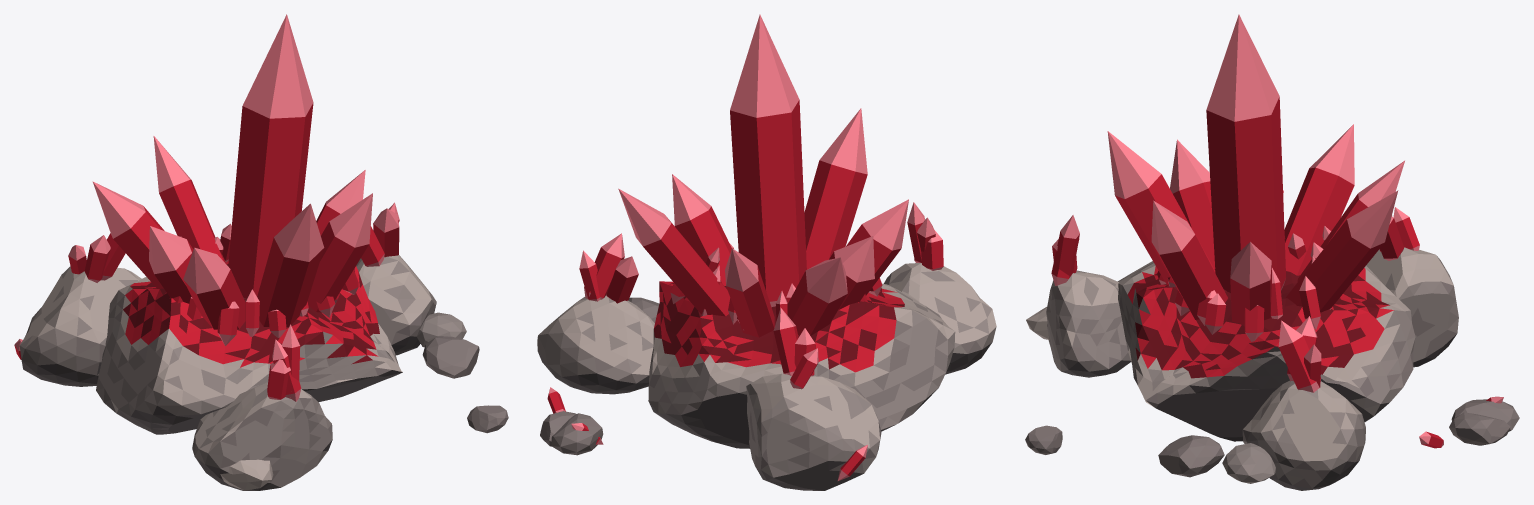
The model's file is Crystal_Corundum.obj.
3 views of the same model, side by side, from view 1: azimuth 30°, elevation 25°; view 2: azimuth 150°, elevation 25°; view 3: azimuth 270°, elevation 25° (orthographic). The views are drawn at different scales.
Parts seen in each view (by area): view 1: Crystal_Corundum; view 2: Crystal_Corundum; view 3: Crystal_Corundum.
Part boxes in pixels (x1,y1,x2,y2): Crystal_Corundum: (14,14,508,490); Crystal_Corundum: (537,14,996,490); Crystal_Corundum: (1025,14,1519,490).
Size of the model in its own units: 1.22 by 1.22 by 1.35.
